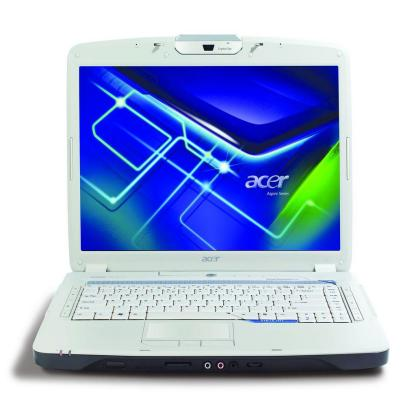board: (19, 31, 399, 381)
